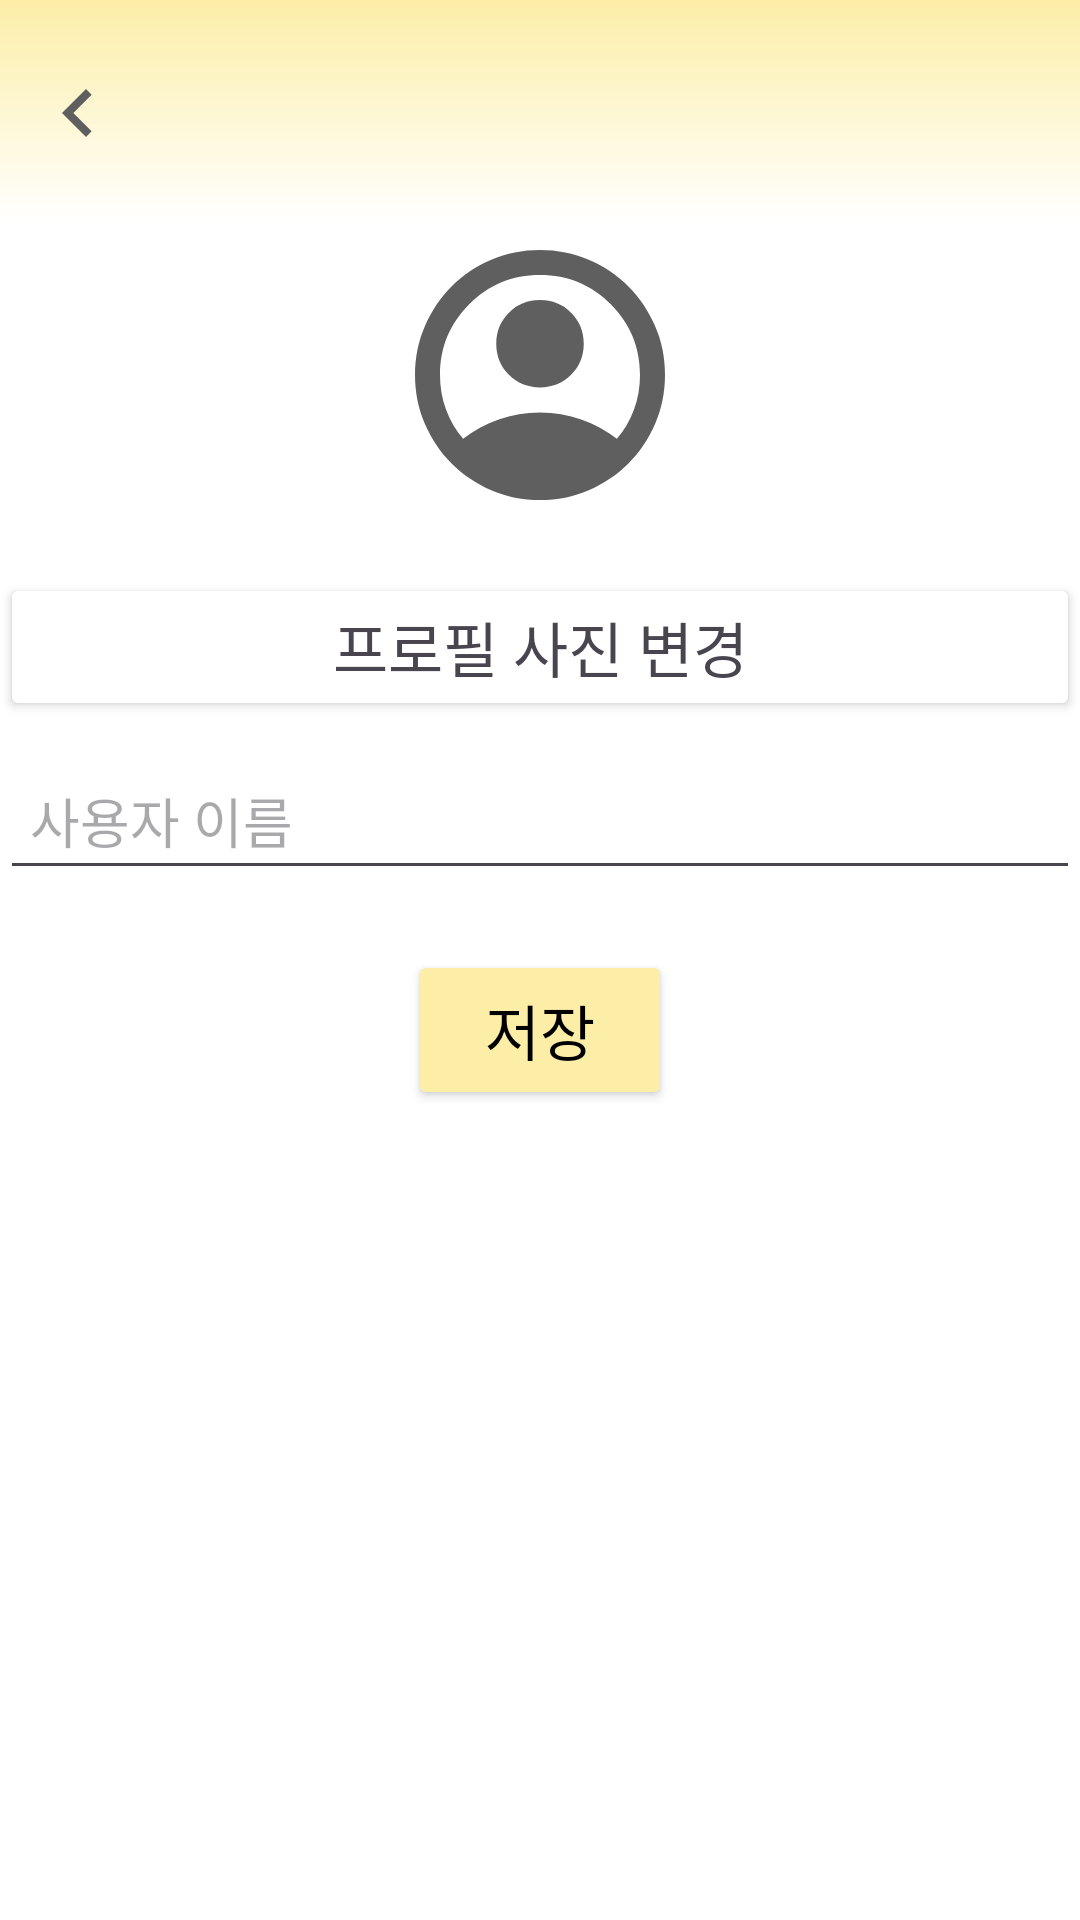

Named icons in this screenshot (1080 x 1920) and their centers, point (x, y):
profile: point (540, 375)
